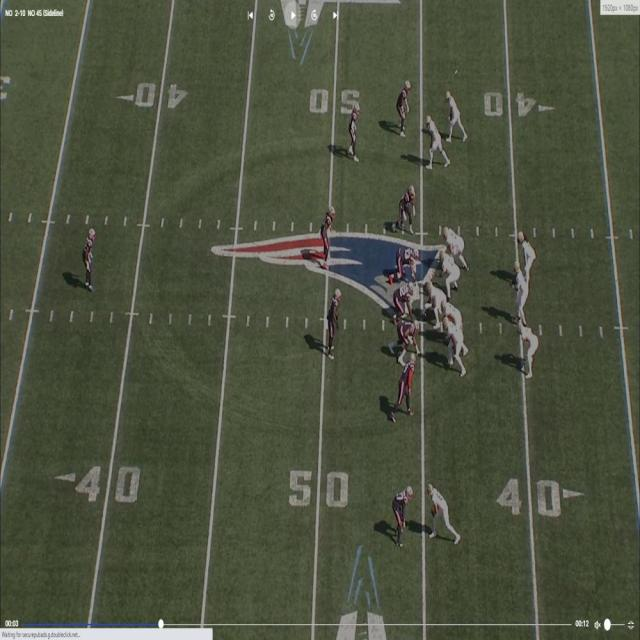center: (423, 283, 440, 325)
db: (395, 484, 414, 544), (399, 80, 412, 137), (84, 228, 95, 291), (350, 98, 360, 160)
lb: (396, 353, 414, 425), (325, 284, 341, 355), (320, 209, 337, 273), (519, 323, 536, 378), (399, 187, 417, 234)
qb: (515, 264, 528, 318)
skill: (425, 482, 454, 537), (426, 114, 444, 168), (448, 91, 467, 141), (516, 231, 530, 282)
